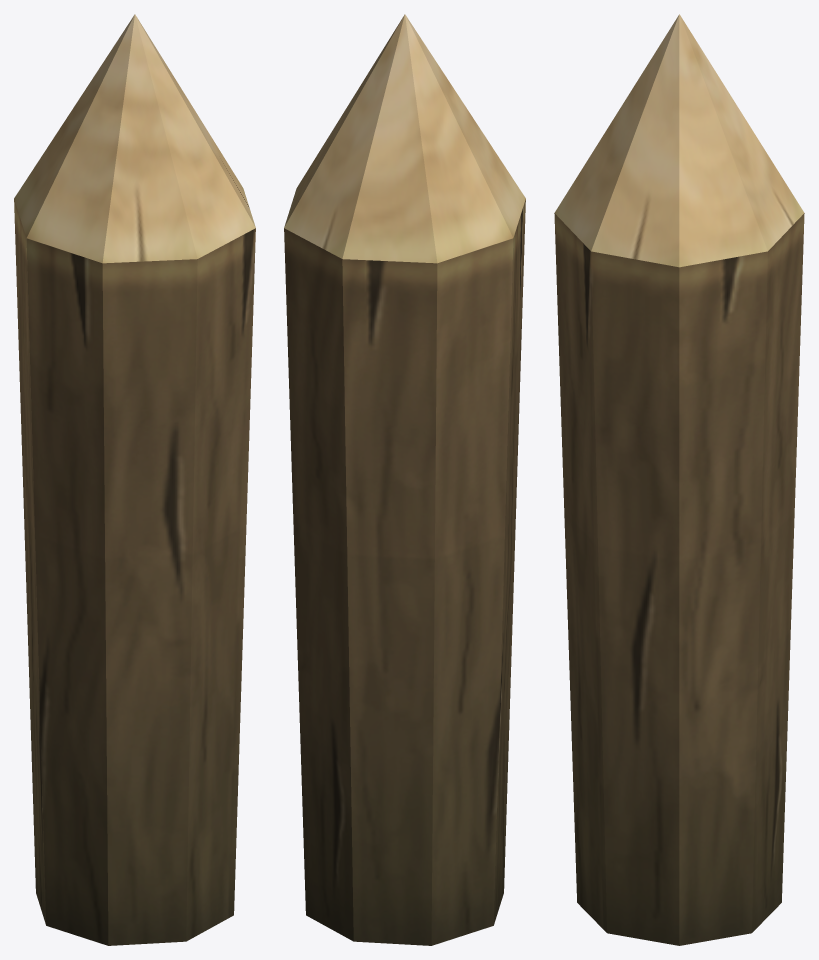
3 views of the same model, side by side, from view 1: azimuth 30°, elevation 25°; view 2: azimuth 150°, elevation 25°; view 3: azimuth 270°, elevation 25° (orthographic).
Parts seen in each view (by area): view 1: part_03b:Mesh; view 2: part_03b:Mesh; view 3: part_03b:Mesh.
Boxes of the visible parts, x1,y1,x2,y2 form: part_03b:Mesh: (14,14,255,945); part_03b:Mesh: (284,14,525,945); part_03b:Mesh: (554,14,804,945).
Bounding box in the file's own units: 0.9225 × 3.62 × 0.9226.
